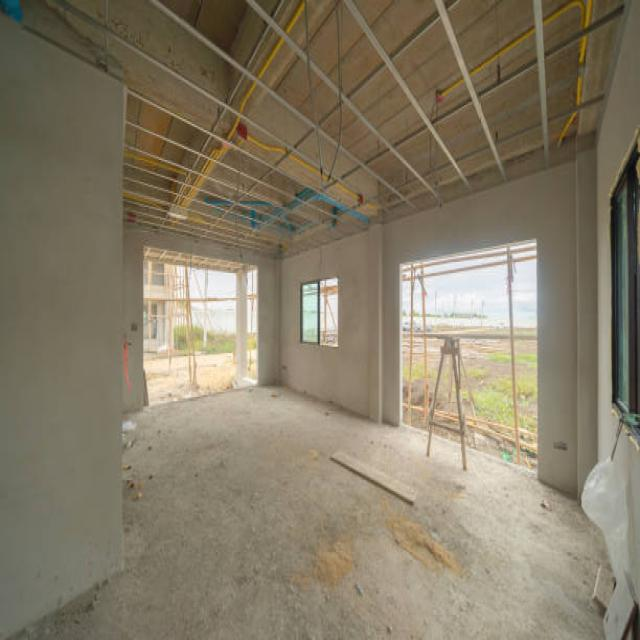floor: (0, 384, 614, 640)
wall: (0, 16, 127, 640), (384, 161, 578, 498), (121, 224, 281, 412), (596, 0, 640, 462), (281, 229, 369, 416), (575, 146, 597, 498), (609, 428, 640, 606), (299, 275, 339, 347), (368, 226, 380, 421), (379, 226, 385, 422)
